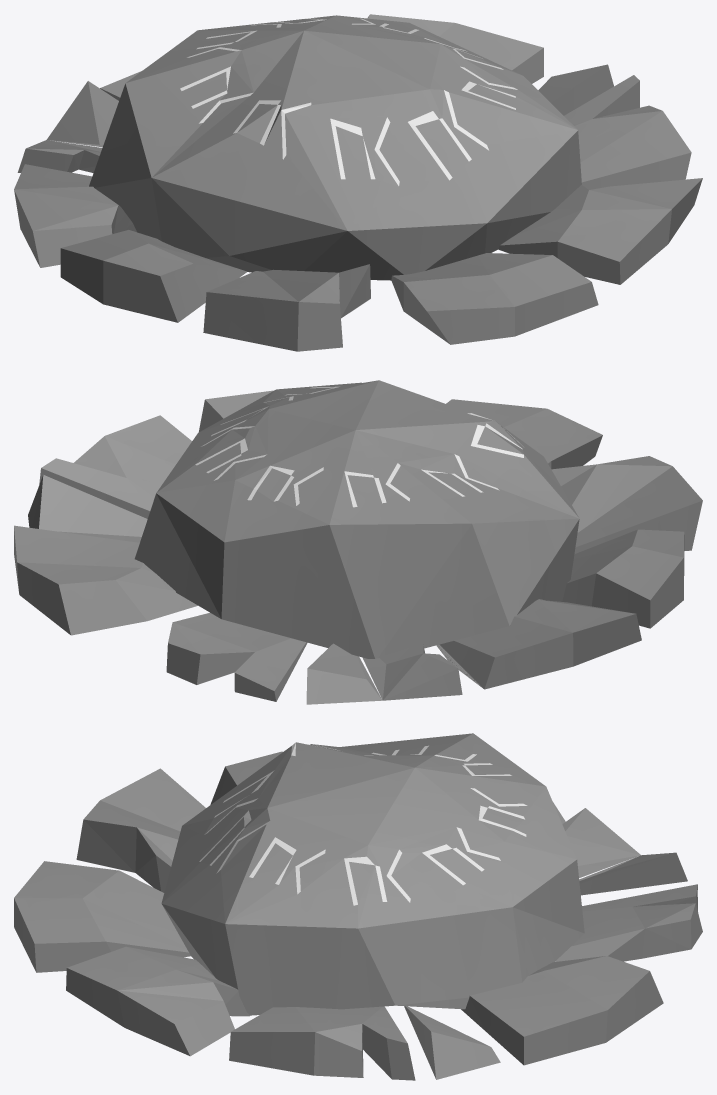
Rendered from Runestone_Floating_Base_01.fbx.
3 renders of one model, top to bottom at view 1: azimuth 30°, elevation 25°; view 2: azimuth 150°, elevation 25°; view 3: azimuth 270°, elevation 25°, orthographic. The views are drawn at different scales.
Parts seen in each view (by area): view 1: Runestone_Floating_Base; view 2: Runestone_Floating_Base; view 3: Runestone_Floating_Base.
Part boxes in pixels (x1,y1,x2,y2): Runestone_Floating_Base: [14, 14, 702, 351]; Runestone_Floating_Base: [14, 380, 702, 704]; Runestone_Floating_Base: [14, 733, 702, 1080].
Size of the model in its own units: 2 by 0.5 by 2.
